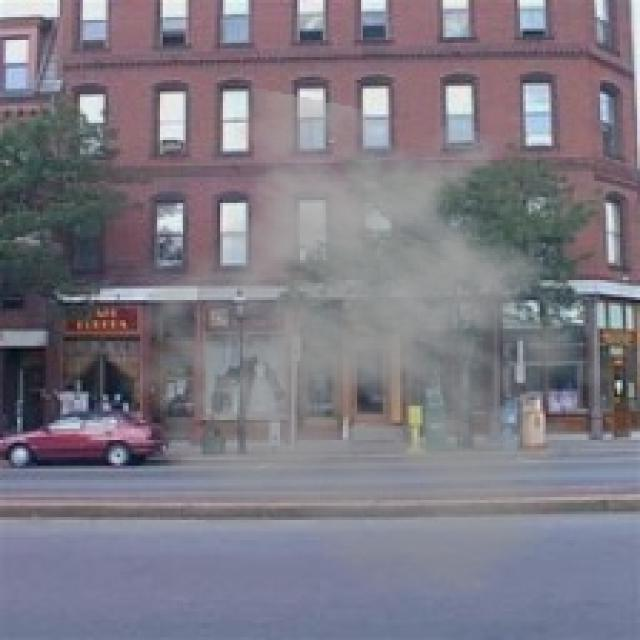smoke: (111, 86, 634, 603)
